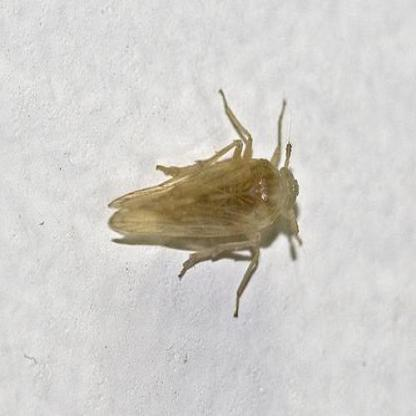brown-planthopper: (108, 138, 305, 269)
